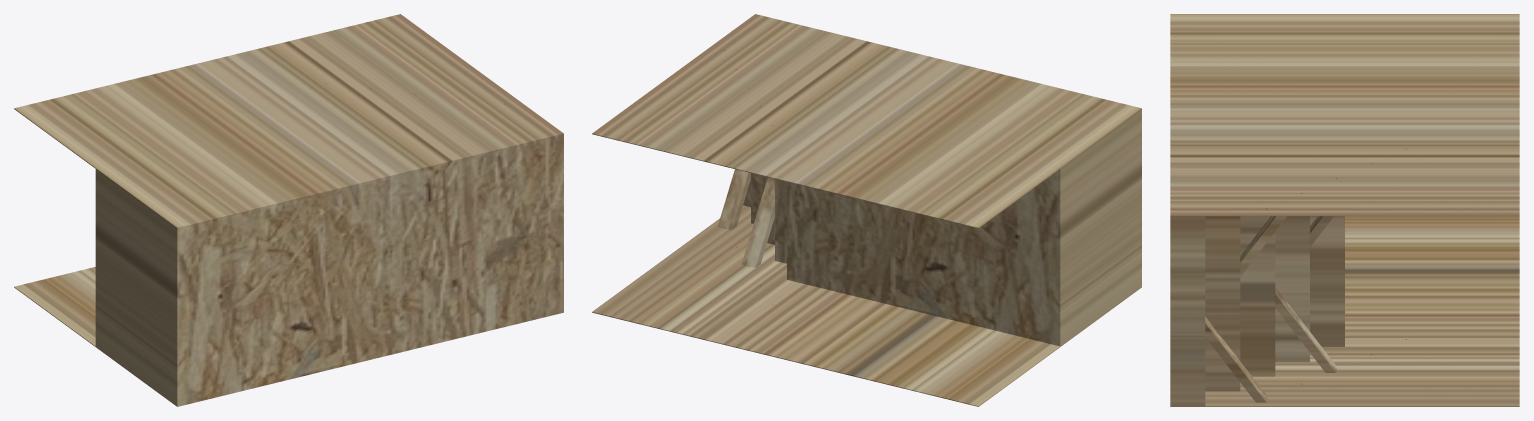
File: Stairs_45deg_4deb.dae
3 renders of one model, left to right at view 1: azimuth 30°, elevation 25°; view 2: azimuth 150°, elevation 25°; view 3: azimuth 270°, elevation 25°, orthographic. The views are drawn at different scales.
Parts seen in each view (by area): view 1: Stairs 45deg 4deb; view 2: Stairs 45deg 4deb; view 3: Stairs 45deg 4deb.
Boxes of the visible parts, <box> form: Stairs 45deg 4deb: <box>14,14,563,406</box>; Stairs 45deg 4deb: <box>592,14,1141,406</box>; Stairs 45deg 4deb: <box>1170,14,1519,406</box>.
Size of the model in its own units: 273 by 200 by 121.
Materials: 1 (1 with a texture image).
